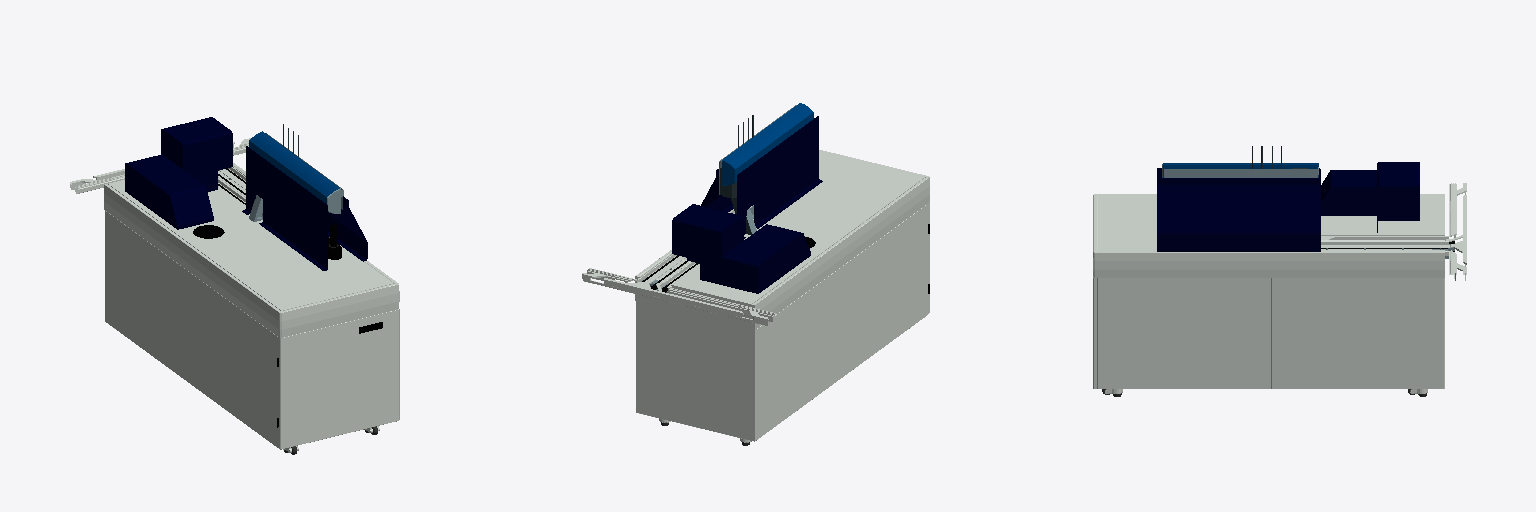
The model's file is Aliquoter.obj.
3 renders of one model, left to right at view 1: azimuth 30°, elevation 25°; view 2: azimuth 150°, elevation 25°; view 3: azimuth 270°, elevation 25°, orthographic.
Parts seen in each view (by area): view 1: object57, object12, object37, object13, object41, object11, object42; view 2: object57, object12, object37, object13, object41, object11, object6; view 3: object57, object12, object13, object37, object42, object8, object41, object6, object11.
Boxes of the visible parts, box(x1,y1,x2,y2) form: object57: box(105, 211, 399, 449); object12: box(104, 163, 399, 337); object37: box(125, 117, 232, 229); object13: box(242, 146, 367, 270); object41: box(249, 131, 339, 203); object11: box(70, 138, 250, 193); object42: box(249, 133, 343, 221); object57: box(636, 202, 929, 441); object12: box(635, 150, 929, 329); object37: box(672, 204, 810, 293); object13: box(701, 116, 822, 238); object41: box(722, 103, 813, 185); object11: box(582, 268, 775, 325); object6: box(613, 206, 751, 309); object57: box(1093, 277, 1444, 388); object12: box(1093, 194, 1444, 277); object13: box(1157, 168, 1320, 251); object37: box(1321, 162, 1419, 232); object42: box(1162, 164, 1318, 177); object8: box(1321, 236, 1448, 255); object41: box(1163, 163, 1318, 177); object6: box(1321, 200, 1462, 261); object11: box(1449, 183, 1466, 280).
Bounding box in the file's own units: 49.75 × 63.66 × 87.12.